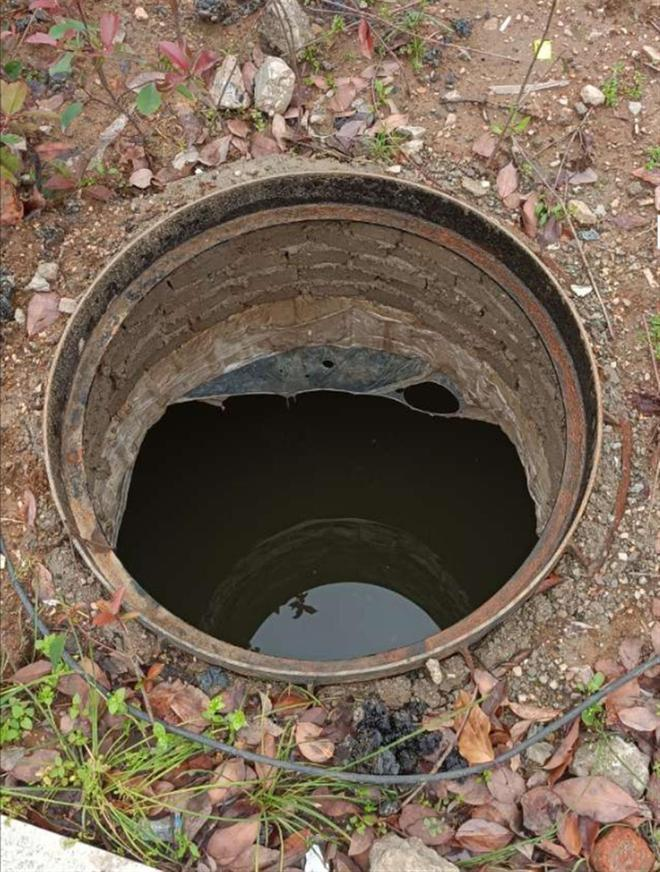wellcover: (32, 167, 613, 690)
